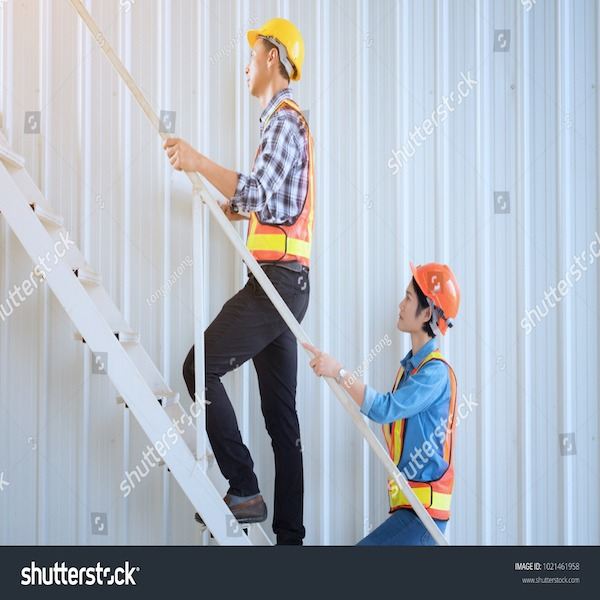helmet: (248, 15, 310, 71), (409, 261, 464, 321)
vest: (389, 357, 460, 519), (245, 100, 314, 259)
